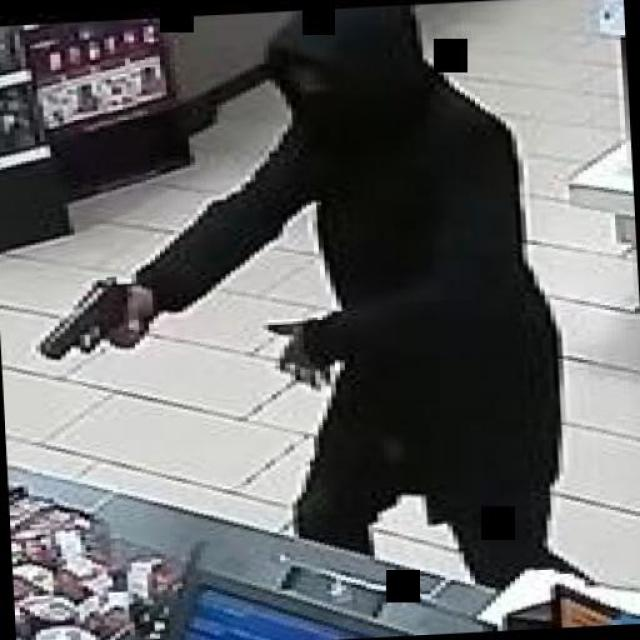gun: (27, 272, 152, 360)
